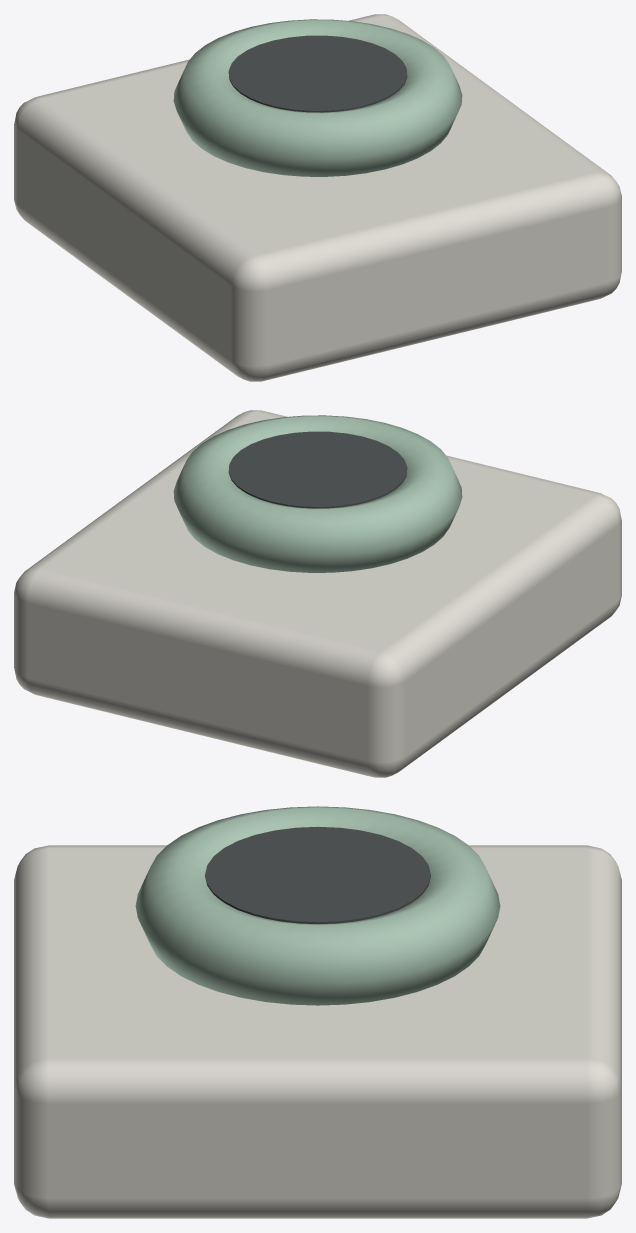
Rendered from hearing-aid-and-audiology-clinic-otoscope-charging-sta-236f96ed__31735.glb.
The picture shows the model from 3 angles, top to bottom: view 1: azimuth 30°, elevation 25°; view 2: azimuth 150°, elevation 25°; view 3: azimuth 270°, elevation 25°; orthographic projection. The views are drawn at different scales.
Visible parts, largest first — view 1: otoscope-charging-stand; view 2: otoscope-charging-stand; view 3: otoscope-charging-stand.
Part boxes in pixels (x1,y1,x2,y2): otoscope-charging-stand: (14,14,621,381); otoscope-charging-stand: (14,410,621,777); otoscope-charging-stand: (14,806,621,1218).
Bounding box in the file's own units: 0.065 × 0.031 × 0.07.
